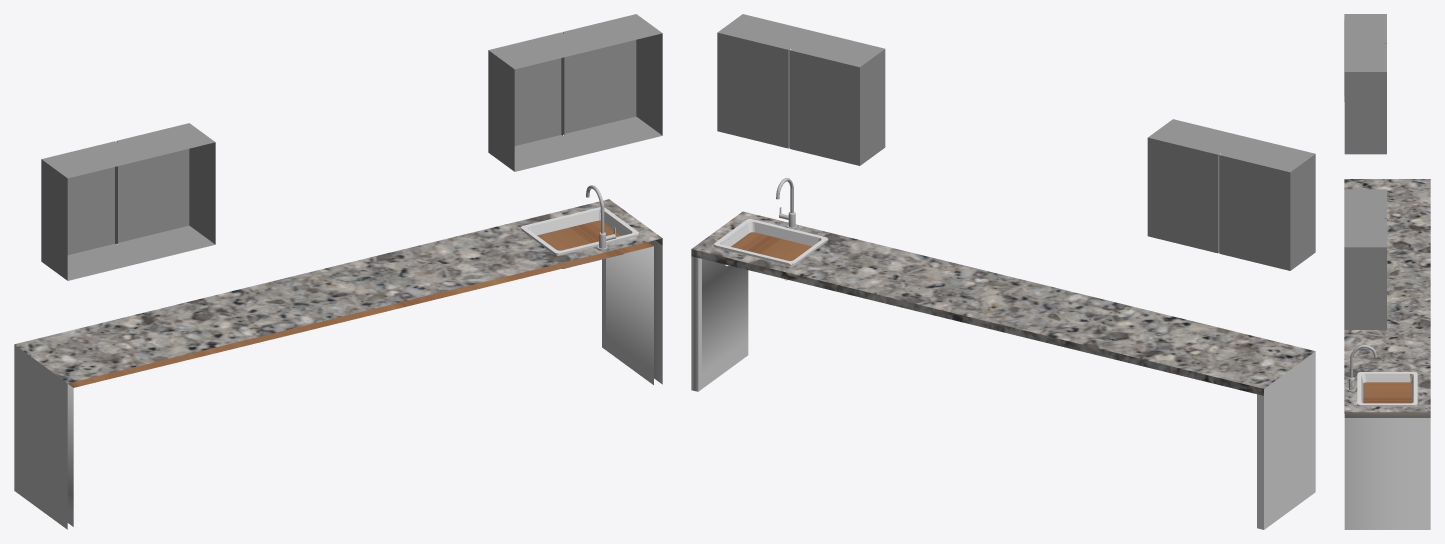
Rendered from MSH_Coworking_Barra.fbx.
The picture shows the model from 3 angles, left to right: view 1: azimuth 30°, elevation 25°; view 2: azimuth 150°, elevation 25°; view 3: azimuth 270°, elevation 25°; orthographic projection. The views are drawn at different scales.
Visible parts, largest first — view 1: MSH_Cocina_Coworking; view 2: MSH_Cocina_Coworking; view 3: MSH_Cocina_Coworking.
Boxes of the visible parts, left/top/right/bottom form: MSH_Cocina_Coworking: left=14, top=14, right=662, bottom=529; MSH_Cocina_Coworking: left=691, top=14, right=1315, bottom=529; MSH_Cocina_Coworking: left=1344, top=14, right=1430, bottom=529.
Size of the model in its own units: 425 by 240 by 66.36.
